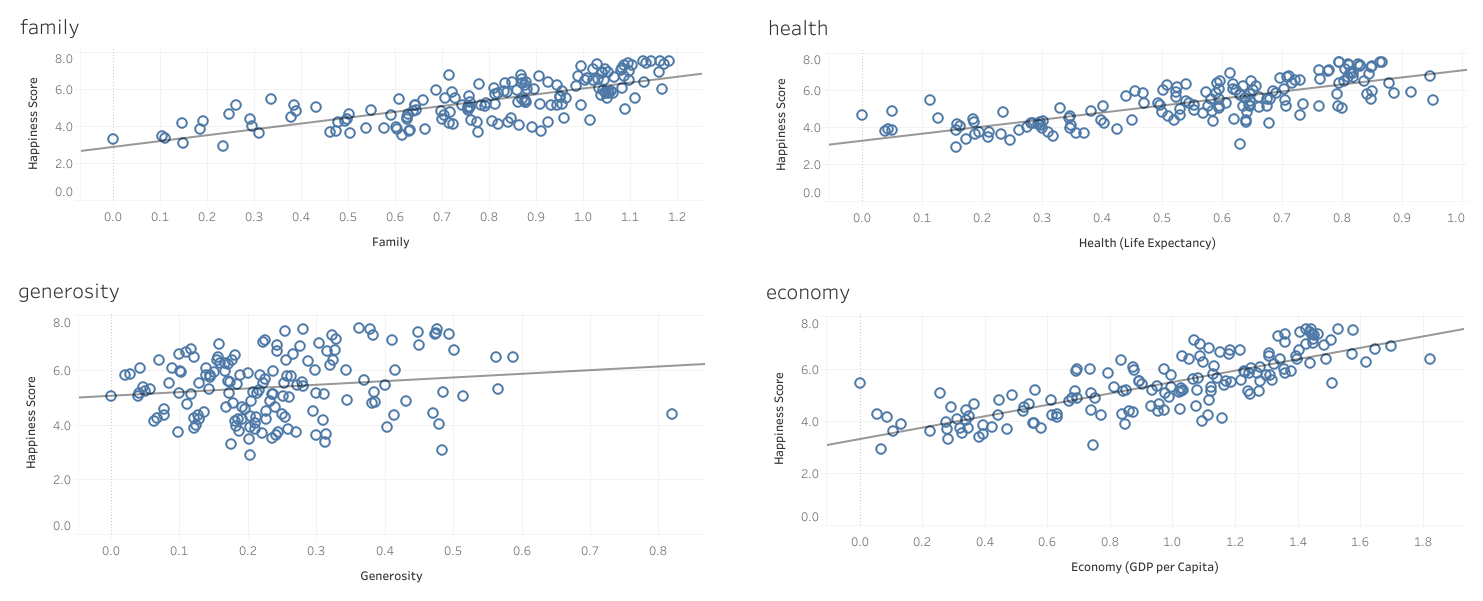

What the dashboard file says about the page in this screenshot:
{"tool":"tableau","page":{"name":"Dashboard 1","canvas":[1484,602],"ordinal":0},"visuals":[{"type":"worksheet","title":"family","mark":"Automatic","rows":["Happiness Score"],"cols":["Family"],"box":[11.9,1.5,694.5,259.6]},{"type":"worksheet","title":"health","mark":"Automatic","rows":["Happiness Score"],"cols":["Health (Life Expectancy)"],"box":[759.8,3,710.8,258.9]},{"type":"worksheet","title":"generosity","mark":"Automatic","rows":["Happiness Score"],"cols":["Generosity"],"box":[10.4,266.4,699,328.8]},{"type":"worksheet","title":"economy","mark":"Automatic","rows":["Happiness Score"],"cols":["Economy (GDP per Capita)"],"box":[758.3,267.1,709.4,319.1]}]}

Visuals, with their boxes in screenshot pixels (x1, y1, x2, y2), scaled from the page's 1484x602 canvas onto the 1483x601 screenshot:
"family" worksheet: [12,1,706,261]
"health" worksheet: [759,3,1470,261]
"generosity" worksheet: [10,266,709,594]
"economy" worksheet: [758,267,1467,585]
